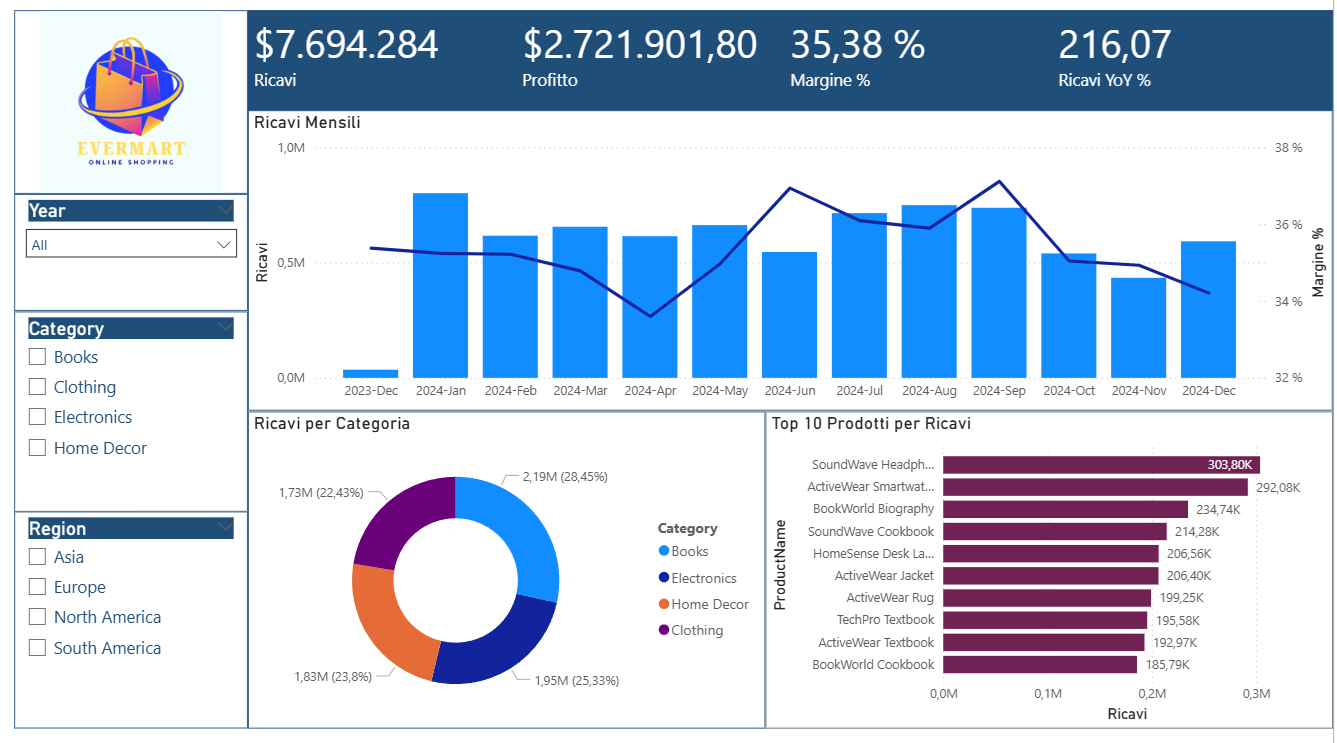

The page's visual inventory and layout, read from the dashboard file:
{"tool":"powerbi","page":{"name":"Ricavi – Overview","canvas":[1280,720],"ordinal":0},"visuals":[{"type":"lineStackedColumnComboChart","title":"Ricavi Mensili","fields":{"Category":["Date.Month"],"Y":["Transazioni.Ricavi"],"Y2":["Transazioni.Margine %"]},"box":[240,112,1040,288],"z":0},{"type":"clusteredBarChart","title":"Top 10 Prodotti per Ricavi","fields":{"Category":["Prodotti.ProductName"],"Y":["Transazioni.Ricavi"]},"box":[736,400,544,304],"z":1000},{"type":"donutChart","title":"Ricavi per Categoria","fields":{"Category":["Prodotti.Category"],"Y":["Transazioni.Ricavi"]},"box":[240,400,496,304],"z":2000},{"type":"slicer","fields":{"Values":["Date.Year"]},"box":[16,192,224,112],"z":3000},{"type":"slicer","fields":{"Values":["Prodotti.Category"]},"box":[16,304,224,192],"z":4000},{"type":"slicer","fields":{"Values":["Clienti.Region"]},"box":[16,496,224,208],"z":5000},{"type":"multiRowCard","fields":{"Values":["Transazioni.Ricavi","Transazioni.Profitto","Transazioni.Margine %","Transazioni.Ricavi YoY %"]},"box":[240,16,1040,96],"z":6000},{"type":"image","box":[16,16,224,176],"z":7000}]}

Visuals, with their boxes in screenshot pixels (x1, y1, x2, y2), scaled from the page's 1280x720 canvas onto the 1337x743 screenshot:
"Ricavi Mensili" lineStackedColumnComboChart: detection(251, 116, 1336, 413)
"Top 10 Prodotti per Ricavi" clusteredBarChart: detection(769, 413, 1336, 726)
"Ricavi per Categoria" donutChart: detection(251, 413, 769, 726)
slicer - Date.Year: detection(17, 198, 251, 314)
slicer - Prodotti.Category: detection(17, 314, 251, 512)
slicer - Clienti.Region: detection(17, 512, 251, 726)
multiRowCard - Transazioni.Ricavi x Transazioni.Profitto: detection(251, 17, 1336, 116)
image: detection(17, 17, 251, 198)
